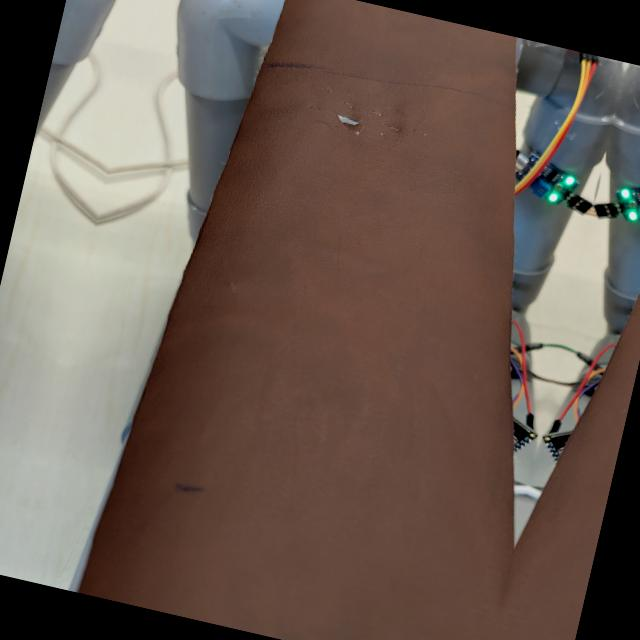belt_crack: (276, 69, 437, 164)
